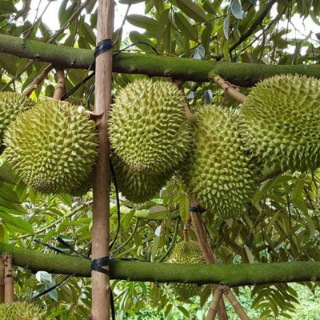sau_rieng: (9, 95, 98, 195), (110, 74, 195, 178), (188, 102, 256, 222)
